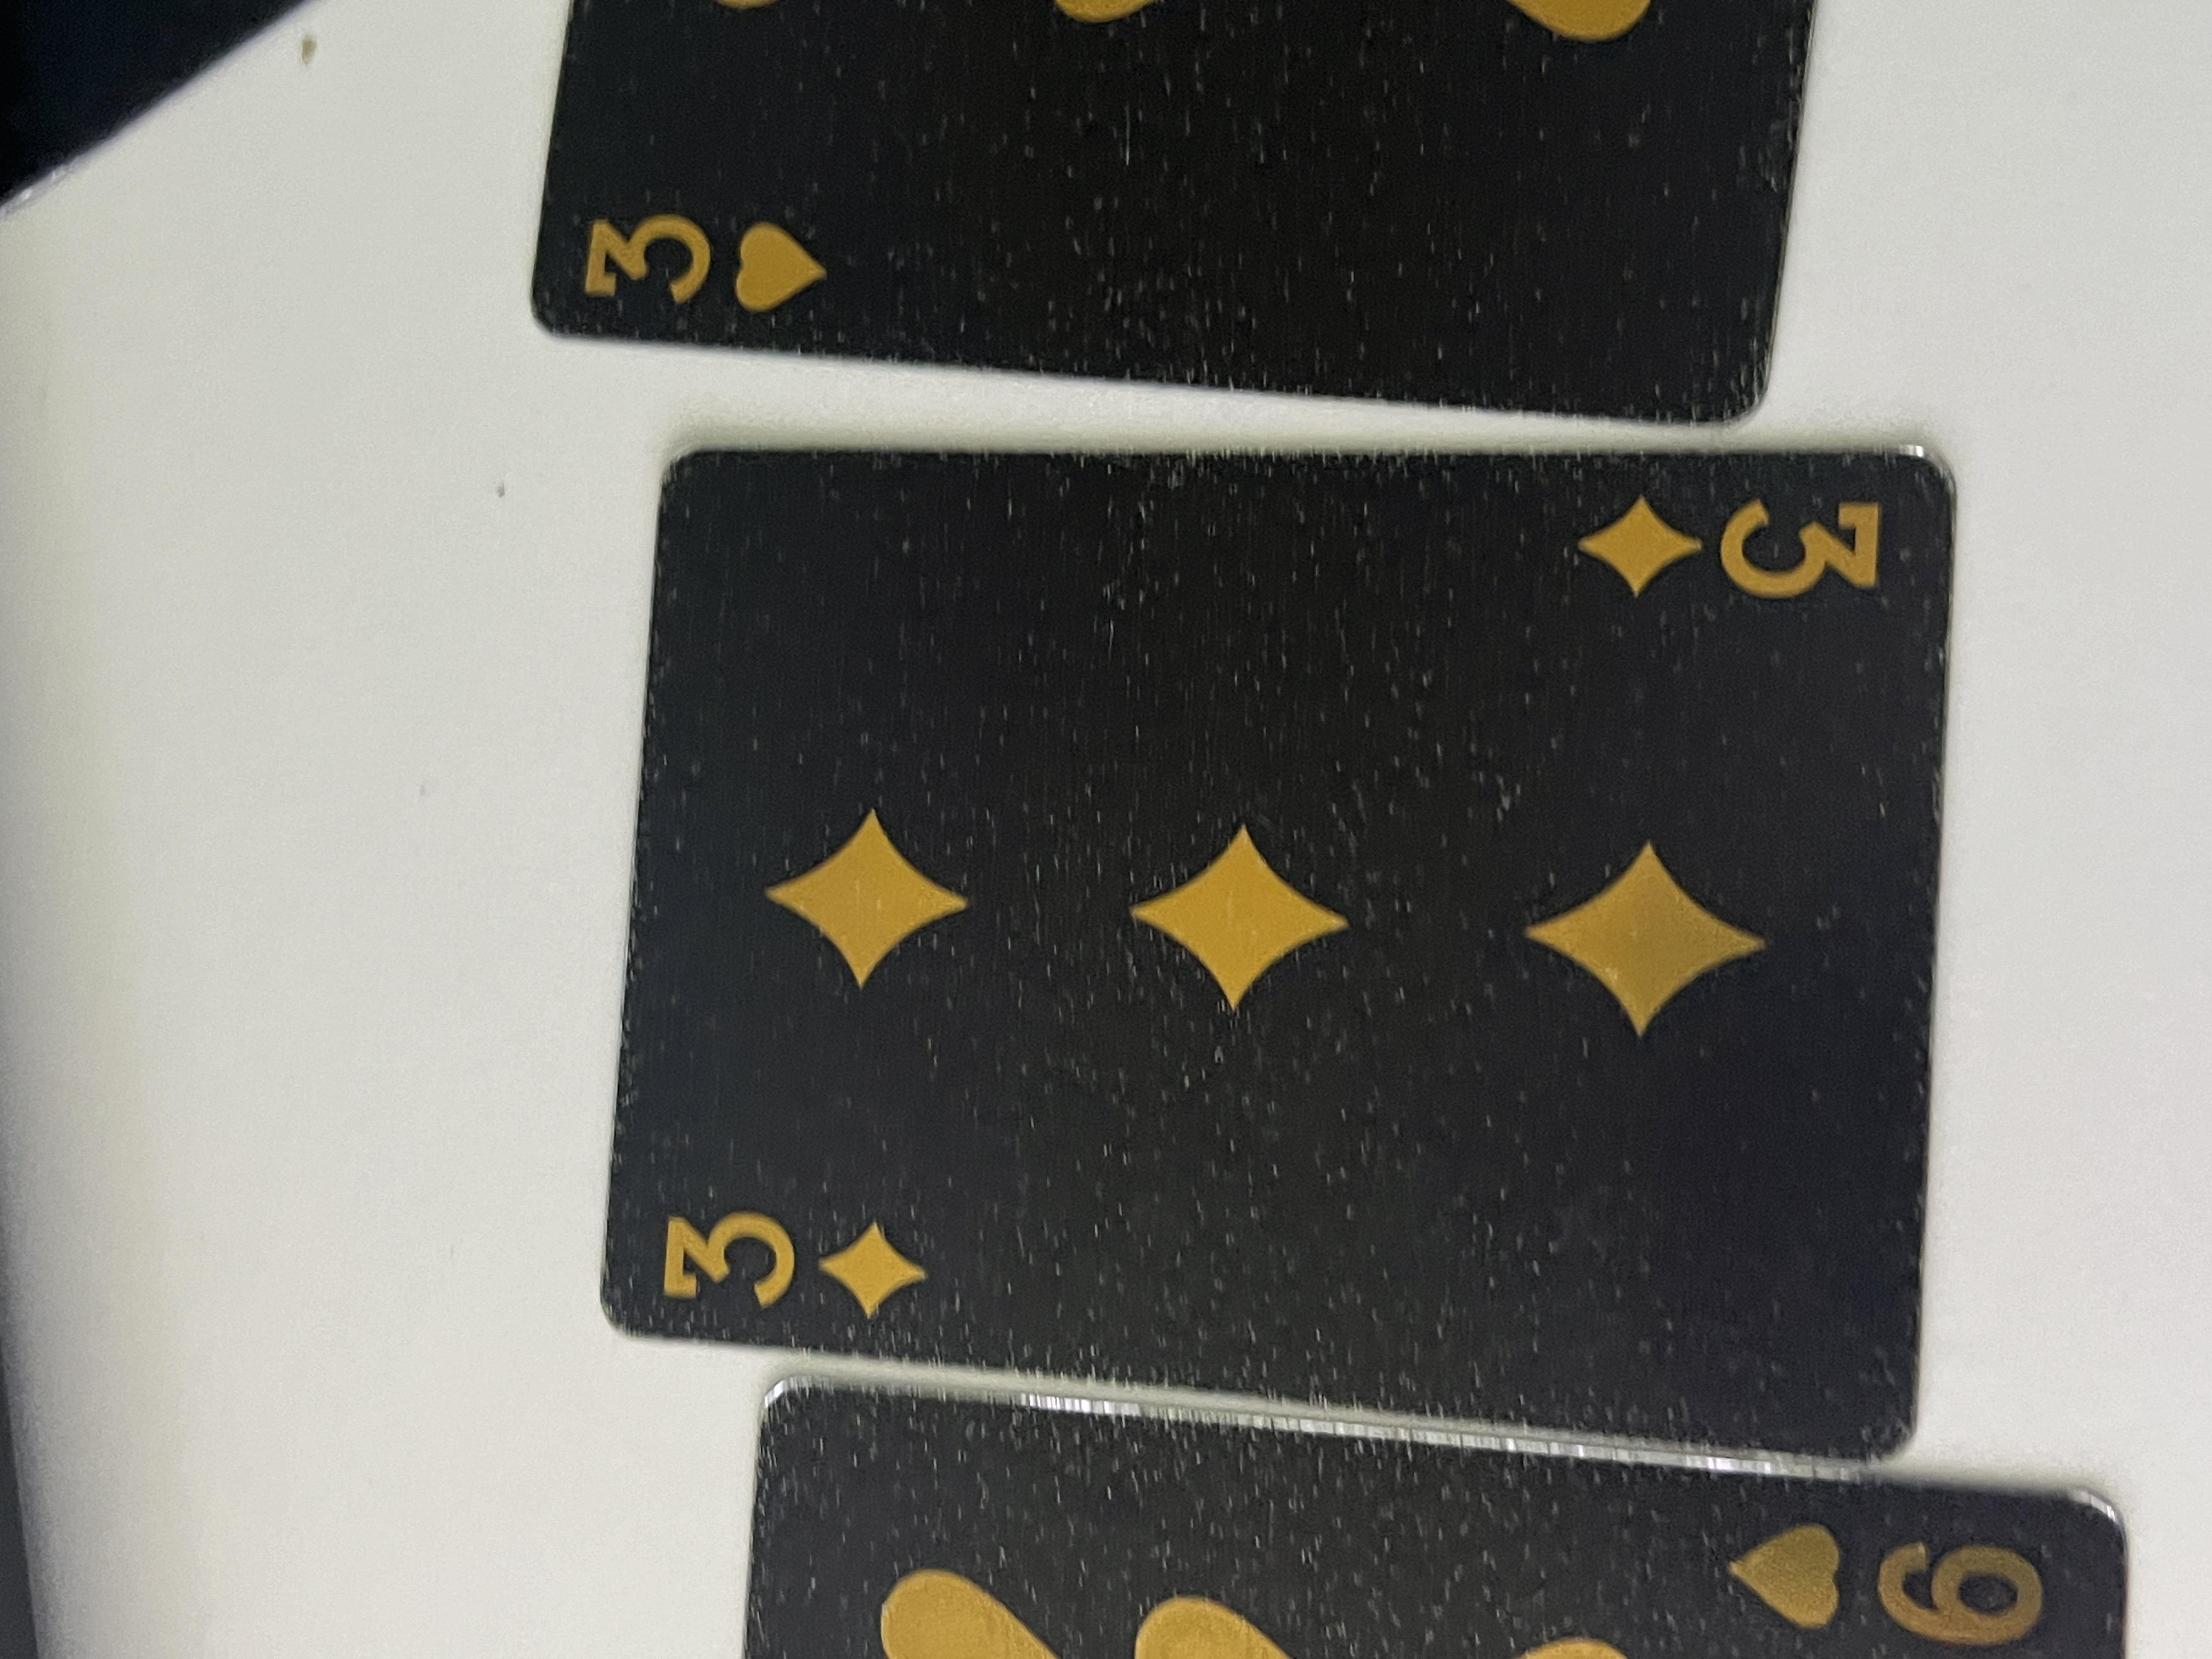3D: (1397, 1178, 1606, 1448), (420, 476, 629, 706)
3H: (1803, 436, 1946, 634)
9H: (0, 1295, 193, 1554)
